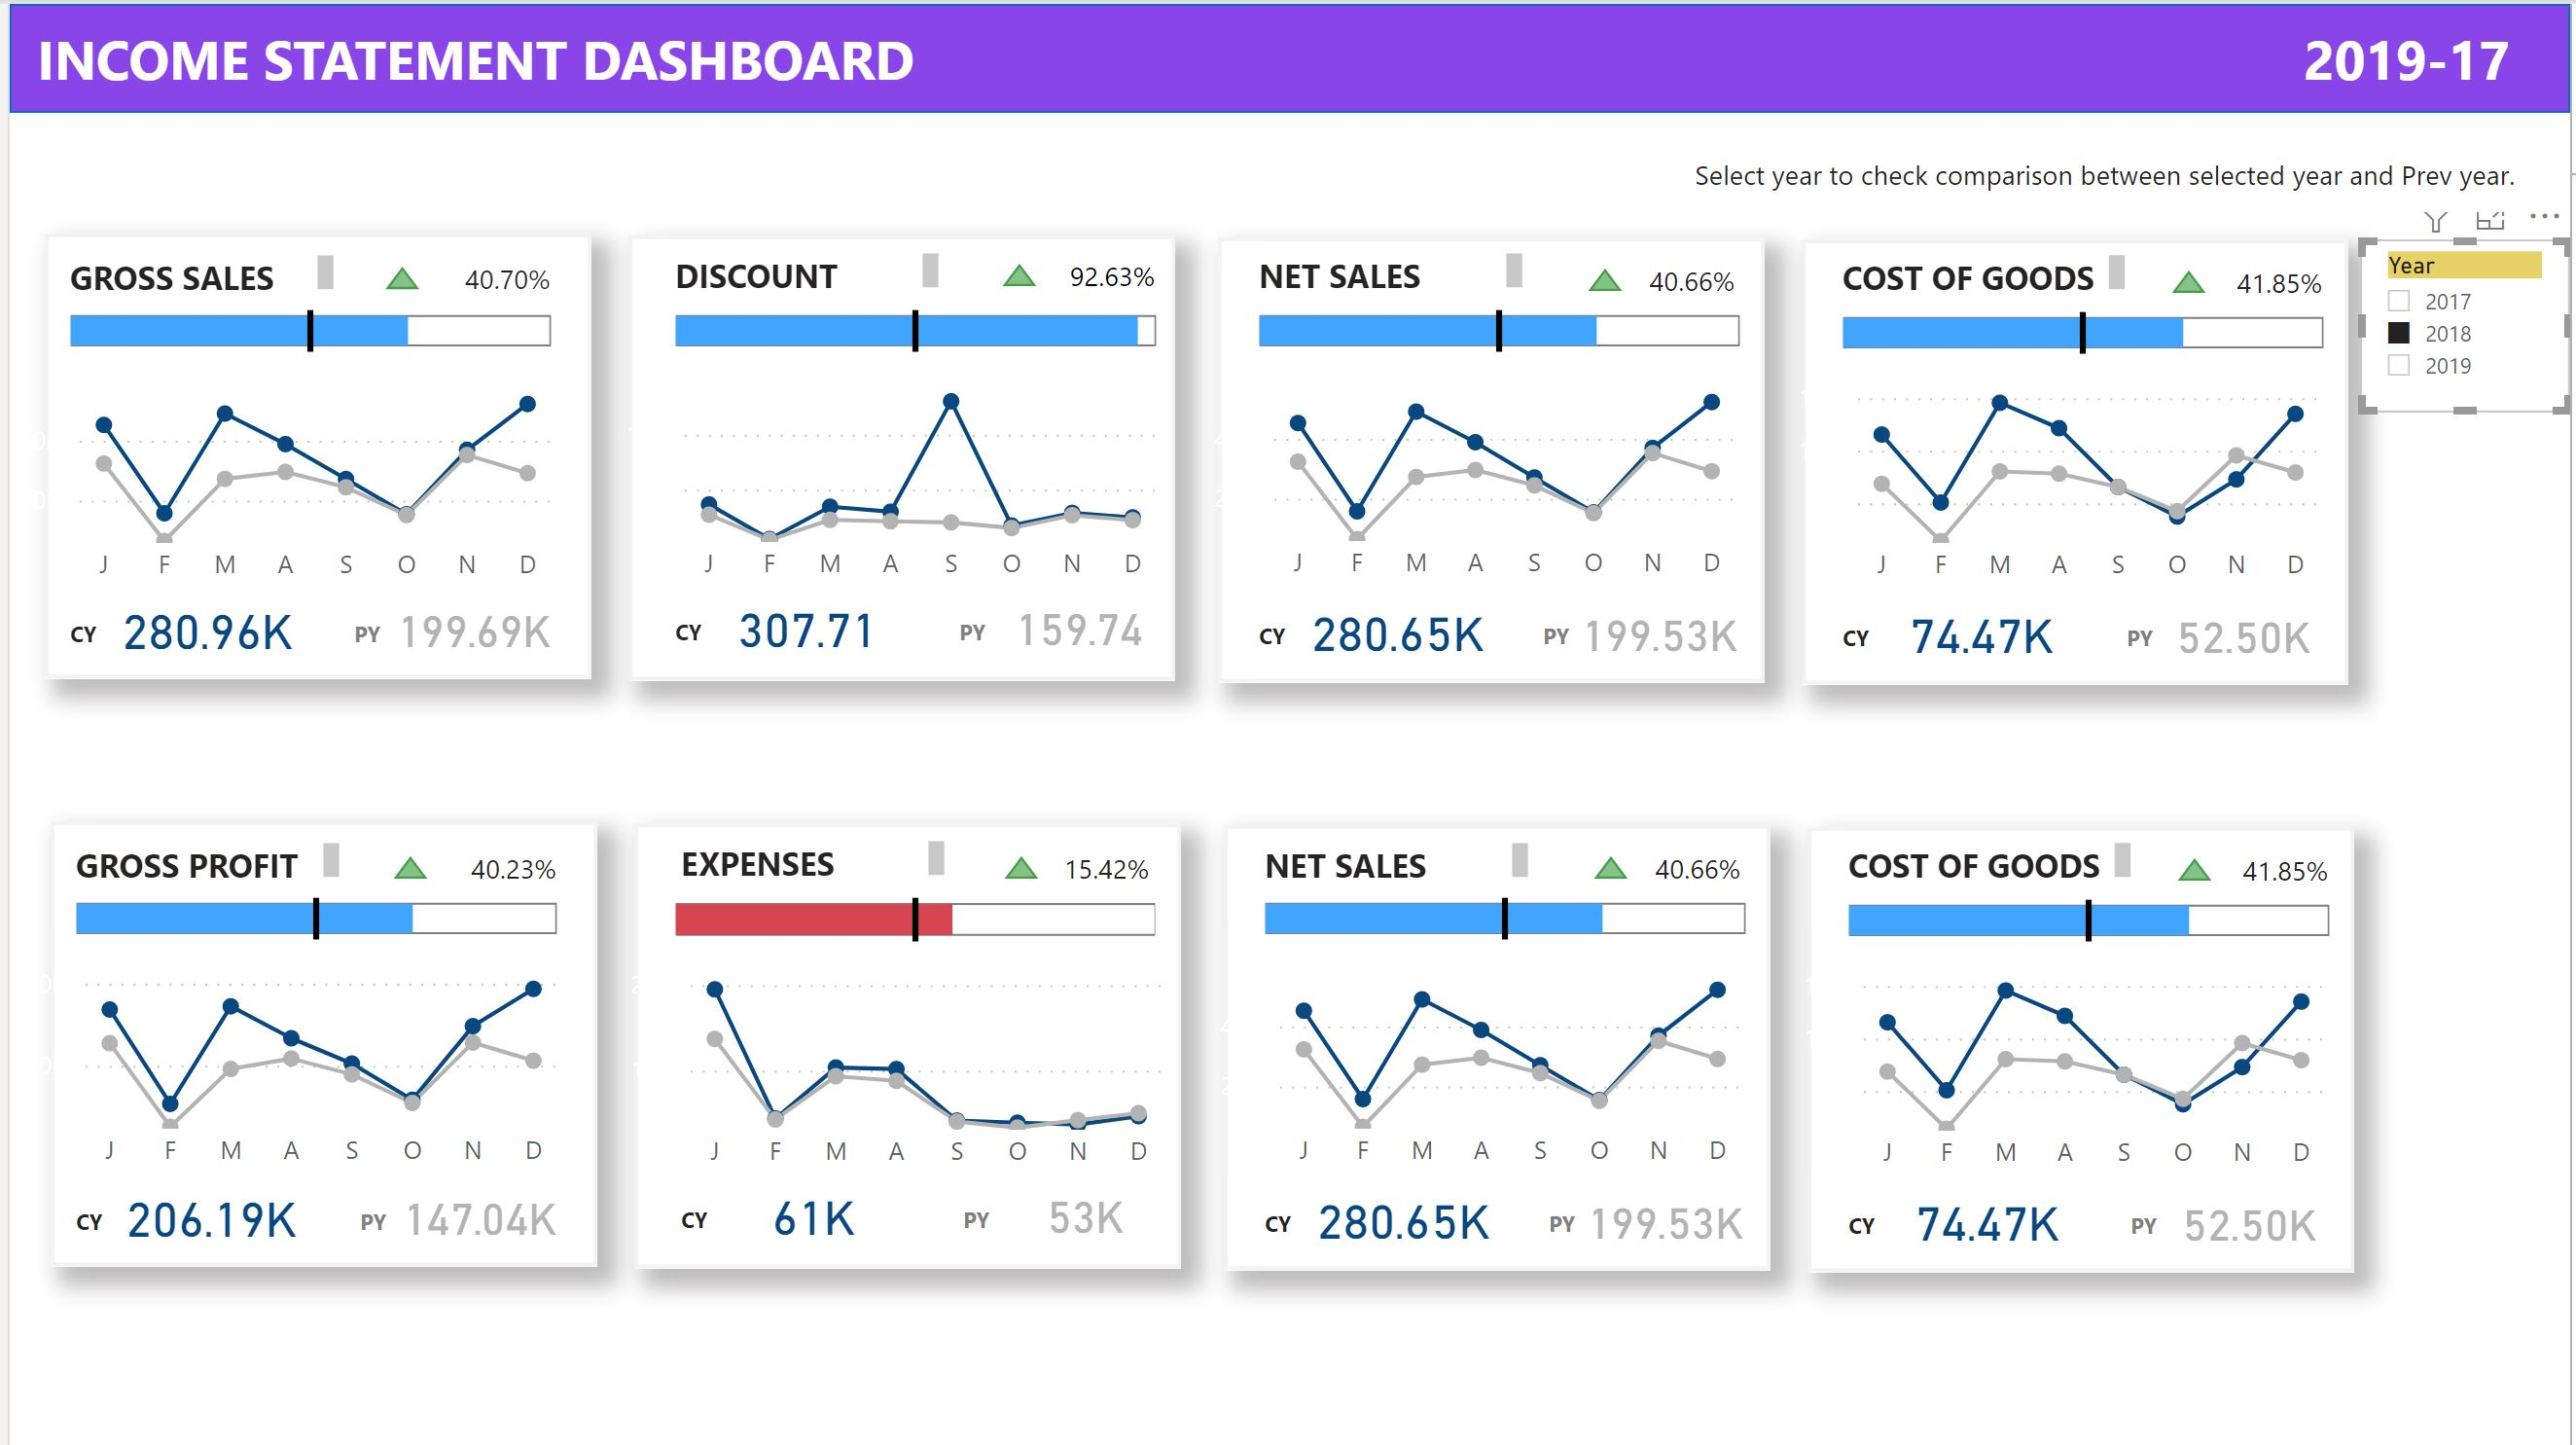

The page's visual inventory and layout, read from the dashboard file:
{"tool":"powerbi","page":{"name":"Income Statement","canvas":[1280,720],"ordinal":0},"visuals":[{"type":"tableEx","fields":{"Values":["RevenueData.M Net Sales Change(%)"]},"box":[780.9,370.7,113.8,77.8],"z":0},{"type":"tableEx","fields":{"Values":["RevenueData.M Total Cost Change(%)"]},"box":[1072.4,371.6,113.8,77.8],"z":1000},{"type":"tableEx","fields":{"Values":["RevenueData.M Total Profit Change(%)"]},"box":[180.9,370.6,112.8,78.8],"z":2000},{"type":"tableEx","fields":{"Values":["Expense.M Expenses Change(%)"]},"box":[486.3,370.6,113.8,80.7],"z":3000},{"type":"shape","box":[20.2,408.7,273.3,222.7],"z":4000},{"type":"shape","box":[312,409.6,273.3,222.7],"z":5000},{"type":"shape","box":[606.8,410.6,273.3,222.7],"z":6000},{"type":"shape","box":[898.3,411.4,273.3,222.7],"z":7000},{"type":"tableEx","fields":{"Values":["RevenueData.M Total Cost Change(%)"]},"box":[1069.6,77.7,113.8,77.8],"z":8000},{"type":"shape","box":[895.5,117.6,273.3,222.7],"z":9000},{"type":"tableEx","fields":{"Values":["RevenueData.M Net Sales Change(%)"]},"box":[778.1,76.8,113.8,77.8],"z":10000},{"type":"shape","box":[604,116.7,273.3,222.7],"z":11000},{"type":"tableEx","fields":{"Values":["RevenueData.M Gross Discount Change"]},"box":[485.3,56.4,111.9,95.3],"z":12000},{"type":"tableEx","fields":{"Values":["RevenueData.M Gross Sales Change(%)"]},"box":[177,75.9,125.5,78.8],"z":13000},{"type":"shape","box":[17.5,114.8,273.3,222.7],"z":14000},{"type":"shape","box":[309.3,115.7,273.3,222.7],"z":15000},{"type":"databarKPIB8060E2B144244C5A38807466893C9F5","fields":{"value":["RevenueData.M Total Gross Sales"],"target":["RevenueData.M Prev Gross Sales"]},"box":[25.5,147.7,250.5,33.4],"z":16000},{"type":"slicer","fields":{"Values":["DateTable.Year"]},"box":[1175,117.7,105,86.6],"z":17000},{"type":"card","fields":{"Values":["RevenueData.M Total Gross Sales"]},"box":[49.2,298.8,98.5,29],"z":18000},{"type":"textbox","box":[25.5,299.7,31.6,29],"z":19000},{"type":"card","fields":{"Values":["RevenueData.M Prev Gross Sales"]},"box":[189,298.8,87,29.9],"z":20000},{"type":"textbox","box":[167,299.7,32.5,29],"z":21000},{"type":"textbox","box":[25.5,120.4,141.5,27.3],"z":22000},{"type":"lineChart","fields":{"Category":["DateTable.Month Name"],"Y":["RevenueData.M Total Gross Sales","RevenueData.M PY Gross Sales Same Period"]},"box":[0,180.9,276.2,117.7],"z":23000},{"type":"databarKPIB8060E2B144244C5A38807466893C9F5","fields":{"value":["RevenueData.M Total Discount"],"target":["RevenueData.M Prev Total Discount"]},"box":[327.8,148,250.5,33.4],"z":24000},{"type":"card","fields":{"Values":["RevenueData.M Total Discount"]},"box":[351.1,297.6,95.3,29.2],"z":25000},{"type":"textbox","box":[327.8,298.8,31.6,29],"z":26000},{"type":"card","fields":{"Values":["RevenueData.M Prev Total Discount"]},"box":[491.3,297.9,87,29.9],"z":27000},{"type":"textbox","box":[469.3,298.8,32.5,29],"z":28000},{"type":"textbox","box":[327.8,119.6,141.5,27.3],"z":29000},{"type":"lineChart","fields":{"Category":["DateTable.Month Name"],"Y":["RevenueData.M Total Discount","RevenueData.M PY Discount Change Same Period"]},"box":[302.3,180.3,276,117.8],"z":30000},{"type":"databarKPIB8060E2B144244C5A38807466893C9F5","fields":{"value":["RevenueData.M Total Net Sales"],"target":["RevenueData.M Prev Net Sales"]},"box":[619.8,148,250.5,33.4],"z":31000},{"type":"card","fields":{"Values":["RevenueData.M Total Net Sales"]},"box":[642.9,299.6,102.1,29.2],"z":32000},{"type":"textbox","box":[619.8,300.5,31.6,29],"z":33000},{"type":"card","fields":{"Values":["RevenueData.M Prev Net Sales"]},"box":[779.1,300.5,91.4,30.2],"z":34000},{"type":"textbox","box":[761.4,300.5,32.5,29],"z":35000},{"type":"textbox","box":[619.8,120,141.5,27.3],"z":36000},{"type":"lineChart","fields":{"Category":["DateTable.Month Name"],"Y":["RevenueData.M Total Net Sales","RevenueData.M PY Net Sales Same Period"]},"box":[597.2,179.9,270.4,117.7],"z":37000},{"type":"databarKPIB8060E2B144244C5A38807466893C9F5","fields":{"value":["RevenueData.M Total Cost"],"target":["RevenueData.M Prev Total Cost"]},"box":[911.4,148.8,250.5,33.4],"z":38000},{"type":"card","fields":{"Values":["RevenueData.M Total Cost"]},"box":[934.4,300.4,102.1,29.2],"z":39000},{"type":"textbox","box":[911.4,301.4,31.6,29],"z":40000},{"type":"card","fields":{"Values":["RevenueData.M Prev Total Cost"]},"box":[1070.6,301.4,91.4,30.2],"z":41000},{"type":"textbox","box":[1052.9,301.4,32.5,29],"z":42000},{"type":"textbox","box":[911.4,120.6,150.8,27.2],"z":43000},{"type":"lineChart","fields":{"Category":["DateTable.Month Name"],"Y":["RevenueData.M Total Cost","RevenueData.M PY Total Cost Same Period"]},"box":[888.7,180.8,270.4,117.7],"z":44000},{"type":"databarKPIB8060E2B144244C5A38807466893C9F5","fields":{"value":["RevenueData.M Total Profit"],"target":["RevenueData.M Prev Total Profit"]},"box":[28.2,441.6,250.5,33.4],"z":45000},{"type":"card","fields":{"Values":["RevenueData.M Total Profit"]},"box":[52,592.7,98.5,29],"z":46000},{"type":"textbox","box":[28.2,593.5,31.6,29],"z":47000},{"type":"card","fields":{"Values":["RevenueData.M Prev Total Profit"]},"box":[191.8,592.7,87,29.9],"z":48000},{"type":"textbox","box":[169.8,593.5,32.5,29],"z":49000},{"type":"textbox","box":[28.2,414.3,141.5,27.3],"z":50000},{"type":"databarKPIB8060E2B144244C5A38807466893C9F5","fields":{"value":["Expense.M Total Expenses"],"target":["Expense.M Prev Total Expenses"]},"box":[327.8,442,250,34],"z":51000},{"type":"card","fields":{"Values":["Expense.M Total Expenses"]},"box":[353.9,591.5,95.3,29.2],"z":52000},{"type":"textbox","box":[330.5,592.7,31.6,29],"z":53000},{"type":"card","fields":{"Values":["Expense.M Prev Total Expenses"]},"box":[494,591.8,87,29.9],"z":54000},{"type":"textbox","box":[472.1,592.7,32.5,29],"z":55000},{"type":"textbox","box":[330.5,413.5,141.5,27.3],"z":56000},{"type":"lineChart","fields":{"Category":["DateTable.Month Name"],"Y":["Expense.M Total Expenses","Expense.M PY Expenses Same Period"]},"box":[305,474.1,276,117.8],"z":57000},{"type":"databarKPIB8060E2B144244C5A38807466893C9F5","fields":{"value":["RevenueData.M Total Net Sales"],"target":["RevenueData.M Prev Net Sales"]},"box":[622.6,441.9,250.5,33.4],"z":58000},{"type":"card","fields":{"Values":["RevenueData.M Total Net Sales"]},"box":[645.7,593.5,102.1,29.2],"z":59000},{"type":"textbox","box":[622.6,594.4,31.6,29],"z":60000},{"type":"card","fields":{"Values":["RevenueData.M Prev Net Sales"]},"box":[781.8,594.4,91.4,30.2],"z":61000},{"type":"textbox","box":[764.1,594.4,32.5,29],"z":62000},{"type":"textbox","box":[622.6,413.9,141.5,27.3],"z":63000},{"type":"lineChart","fields":{"Category":["DateTable.Month Name"],"Y":["RevenueData.M Total Net Sales","RevenueData.M PY Net Sales Same Period"]},"box":[599.9,473.8,270.4,117.7],"z":64000},{"type":"databarKPIB8060E2B144244C5A38807466893C9F5","fields":{"value":["RevenueData.M Total Cost"],"target":["RevenueData.M Prev Total Cost"]},"box":[914.1,442.7,250.5,33.4],"z":65000},{"type":"card","fields":{"Values":["RevenueData.M Total Cost"]},"box":[937.2,594.3,102.1,29.2],"z":66000},{"type":"textbox","box":[914.1,595.3,31.6,29],"z":67000},{"type":"card","fields":{"Values":["RevenueData.M Prev Total Cost"]},"box":[1073.3,595.3,91.4,30.2],"z":68000},{"type":"textbox","box":[1055.6,595.3,32.5,29],"z":69000},{"type":"textbox","box":[914.1,414.5,150.8,27.2],"z":70000},{"type":"lineChart","fields":{"Category":["DateTable.Month Name"],"Y":["RevenueData.M Total Cost","RevenueData.M PY Total Cost Same Period"]},"box":[891.5,474.7,270.4,117.7],"z":71000},{"type":"lineChart","fields":{"Category":["DateTable.Month Name"],"Y":["RevenueData.M Total Profit","RevenueData.M PY Profit Same Period"]},"box":[2.9,473.7,276.2,117.7],"z":72000},{"type":"shape","box":[0,0,1280,54.5],"z":72001},{"type":"textbox","box":[8.8,3.9,461,46.7],"z":72002},{"type":"textbox","box":[1141.9,3.9,126.4,46.7],"z":72003},{"type":"textbox","box":[837.4,71,434.8,33.1],"z":72004}]}

Visuals, with their boxes in screenshot pixels (x1, y1, x2, y2), scaled from the page's 1280x720 canvas onto the 2576x1445 screenshot:
tableEx - RevenueData.M Net Sales Change(%): Rect(1571, 744, 1801, 900)
tableEx - RevenueData.M Total Cost Change(%): Rect(2159, 745, 2387, 902)
tableEx - RevenueData.M Total Profit Change(%): Rect(364, 743, 591, 902)
tableEx - Expense.M Expenses Change(%): Rect(979, 743, 1207, 906)
shape: Rect(41, 820, 590, 1267)
shape: Rect(627, 822, 1178, 1269)
shape: Rect(1221, 824, 1771, 1271)
shape: Rect(1807, 826, 2358, 1273)
tableEx - RevenueData.M Total Cost Change(%): Rect(2153, 156, 2381, 312)
shape: Rect(1803, 236, 2352, 683)
tableEx - RevenueData.M Net Sales Change(%): Rect(1566, 154, 1795, 310)
shape: Rect(1216, 235, 1766, 681)
tableEx - RevenueData.M Gross Discount Change: Rect(977, 113, 1201, 305)
tableEx - RevenueData.M Gross Sales Change(%): Rect(356, 153, 609, 310)
shape: Rect(35, 231, 586, 677)
shape: Rect(623, 233, 1172, 679)
databarKPIB8060E2B144244C5A38807466893C9F5 - RevenueData.M Total Gross Sales x RevenueData.M Prev Gross Sales: Rect(52, 297, 555, 364)
slicer - DateTable.Year: Rect(2365, 236, 2575, 410)
card - RevenueData.M Total Gross Sales: Rect(99, 599, 298, 658)
textbox: Rect(52, 601, 115, 660)
card - RevenueData.M Prev Gross Sales: Rect(380, 599, 555, 660)
textbox: Rect(336, 601, 402, 660)
textbox: Rect(52, 241, 336, 297)
lineChart - DateTable.Month Name x RevenueData.M Total Gross Sales: Rect(0, 363, 555, 599)
databarKPIB8060E2B144244C5A38807466893C9F5 - RevenueData.M Total Discount x RevenueData.M Prev Total Discount: Rect(660, 297, 1163, 364)
card - RevenueData.M Total Discount: Rect(706, 597, 898, 656)
textbox: Rect(660, 599, 724, 658)
card - RevenueData.M Prev Total Discount: Rect(988, 597, 1163, 658)
textbox: Rect(945, 599, 1010, 658)
textbox: Rect(660, 240, 945, 295)
lineChart - DateTable.Month Name x RevenueData.M Total Discount: Rect(608, 362, 1163, 598)
databarKPIB8060E2B144244C5A38807466893C9F5 - RevenueData.M Total Net Sales x RevenueData.M Prev Net Sales: Rect(1247, 297, 1751, 364)
card - RevenueData.M Total Net Sales: Rect(1294, 601, 1499, 660)
textbox: Rect(1247, 603, 1311, 662)
card - RevenueData.M Prev Net Sales: Rect(1568, 603, 1752, 664)
textbox: Rect(1532, 603, 1597, 662)
textbox: Rect(1247, 241, 1532, 296)
lineChart - DateTable.Month Name x RevenueData.M Total Net Sales: Rect(1201, 361, 1746, 597)
databarKPIB8060E2B144244C5A38807466893C9F5 - RevenueData.M Total Cost x RevenueData.M Prev Total Cost: Rect(1834, 299, 2339, 366)
card - RevenueData.M Total Cost: Rect(1880, 603, 2086, 662)
textbox: Rect(1834, 605, 1898, 663)
card - RevenueData.M Prev Total Cost: Rect(2155, 605, 2339, 666)
textbox: Rect(2119, 605, 2184, 663)
textbox: Rect(1834, 242, 2137, 297)
lineChart - DateTable.Month Name x RevenueData.M Total Cost: Rect(1788, 363, 2333, 599)
databarKPIB8060E2B144244C5A38807466893C9F5 - RevenueData.M Total Profit x RevenueData.M Prev Total Profit: Rect(56, 886, 561, 954)
card - RevenueData.M Total Profit: Rect(105, 1189, 303, 1247)
textbox: Rect(56, 1191, 121, 1249)
card - RevenueData.M Prev Total Profit: Rect(386, 1189, 561, 1249)
textbox: Rect(341, 1191, 408, 1249)
textbox: Rect(56, 831, 341, 886)
databarKPIB8060E2B144244C5A38807466893C9F5 - Expense.M Total Expenses x Expense.M Prev Total Expenses: Rect(660, 887, 1163, 956)
card - Expense.M Total Expenses: Rect(712, 1187, 904, 1246)
textbox: Rect(665, 1189, 729, 1247)
card - Expense.M Prev Total Expenses: Rect(994, 1188, 1169, 1247)
textbox: Rect(950, 1189, 1016, 1247)
textbox: Rect(665, 830, 949, 885)
lineChart - DateTable.Month Name x Expense.M Total Expenses: Rect(614, 952, 1169, 1188)
databarKPIB8060E2B144244C5A38807466893C9F5 - RevenueData.M Total Net Sales x RevenueData.M Prev Net Sales: Rect(1253, 886, 1757, 954)
card - RevenueData.M Total Net Sales: Rect(1300, 1191, 1505, 1249)
textbox: Rect(1253, 1193, 1316, 1251)
card - RevenueData.M Prev Net Sales: Rect(1573, 1193, 1757, 1253)
textbox: Rect(1538, 1193, 1603, 1251)
textbox: Rect(1253, 831, 1538, 885)
lineChart - DateTable.Month Name x RevenueData.M Total Net Sales: Rect(1207, 951, 1751, 1187)
databarKPIB8060E2B144244C5A38807466893C9F5 - RevenueData.M Total Cost x RevenueData.M Prev Total Cost: Rect(1840, 888, 2343, 956)
card - RevenueData.M Total Cost: Rect(1886, 1193, 2092, 1251)
textbox: Rect(1840, 1195, 1903, 1253)
card - RevenueData.M Prev Total Cost: Rect(2160, 1195, 2343, 1255)
textbox: Rect(2125, 1195, 2190, 1253)
textbox: Rect(1840, 832, 2143, 886)
lineChart - DateTable.Month Name x RevenueData.M Total Cost: Rect(1794, 953, 2339, 1189)
lineChart - DateTable.Month Name x RevenueData.M Total Profit: Rect(6, 951, 561, 1187)
shape: Rect(0, 0, 2575, 109)
textbox: Rect(18, 8, 946, 101)
textbox: Rect(2298, 8, 2553, 101)
textbox: Rect(1685, 142, 2560, 209)
